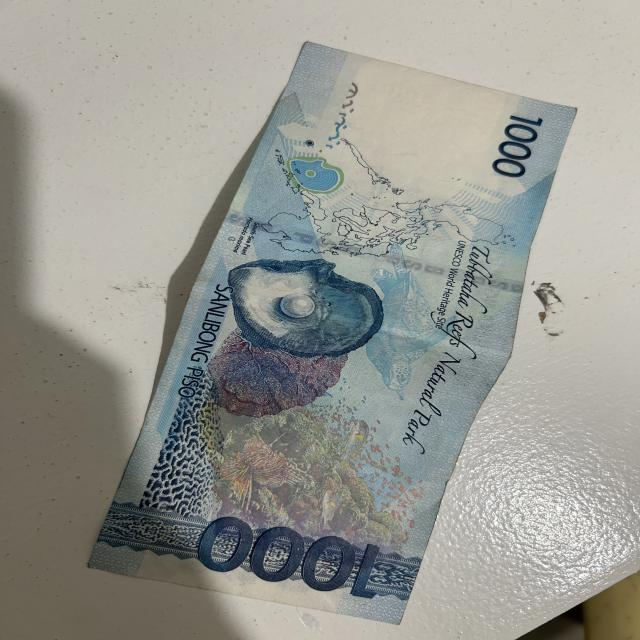1000_pearl: (238, 261, 380, 361)
1000_pearl_watermark: (283, 153, 349, 207)
